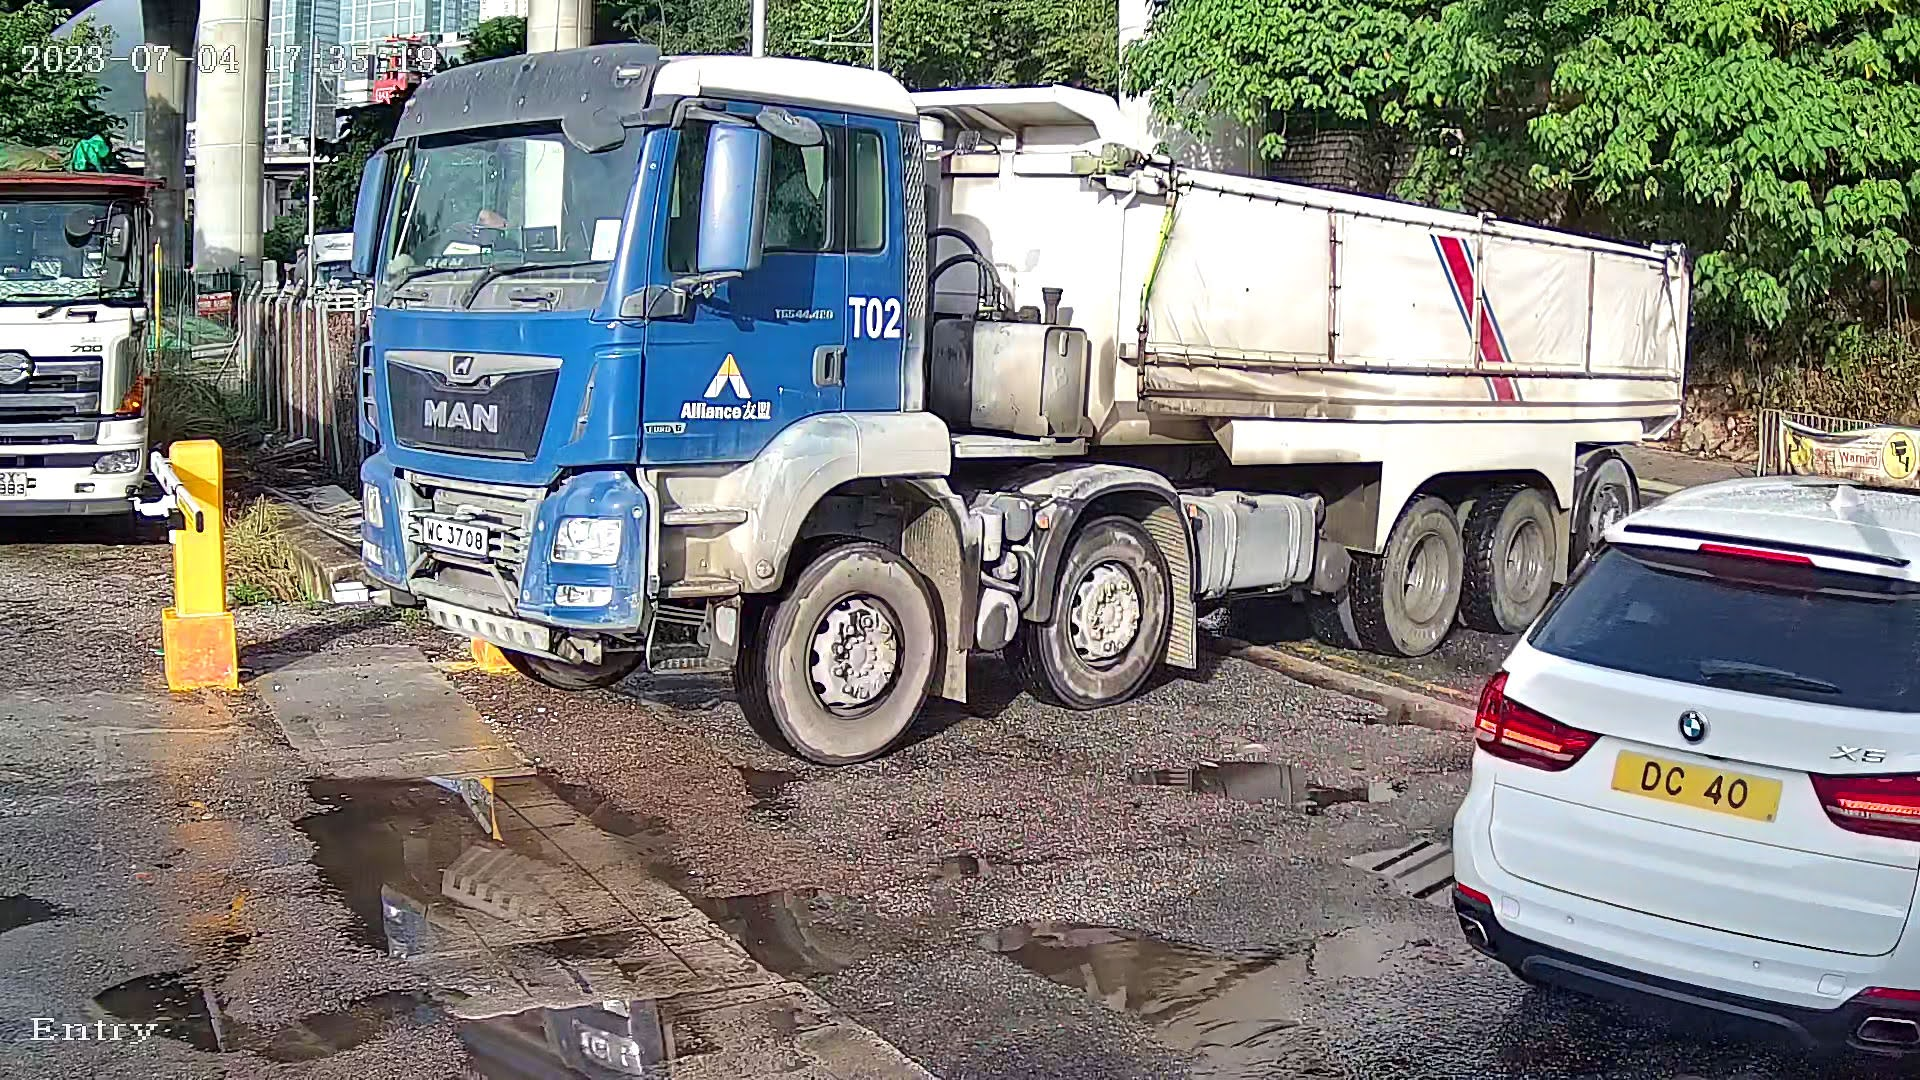truck_large: (309, 32, 1755, 777)
